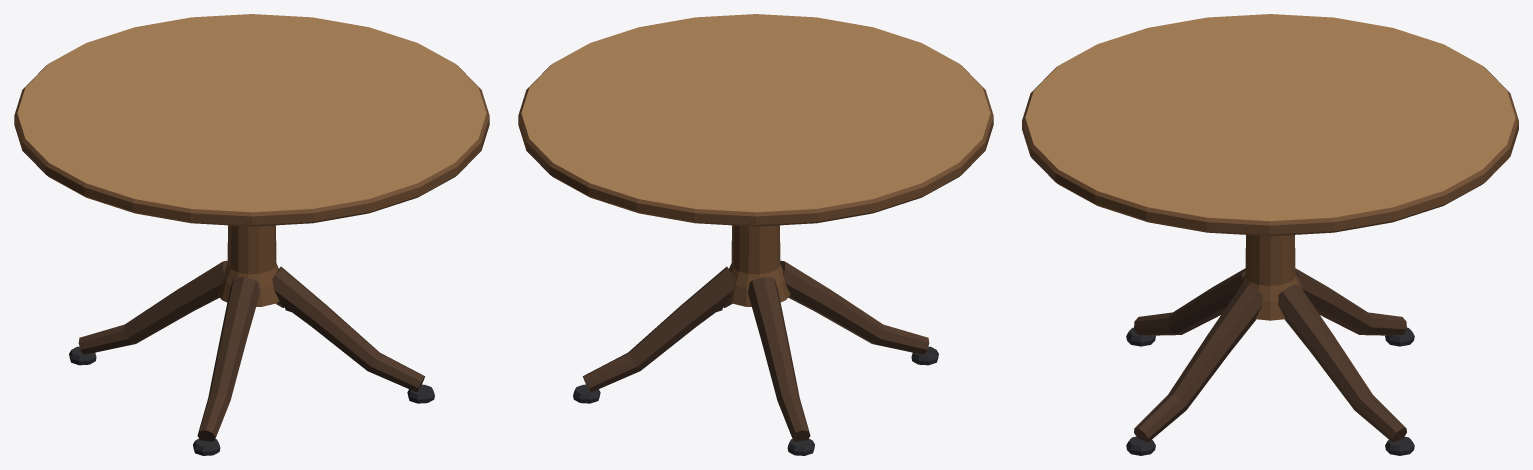
File: FN_Table_Round_Dining.glb
3 views of the same model, side by side, from view 1: azimuth 30°, elevation 25°; view 2: azimuth 150°, elevation 25°; view 3: azimuth 270°, elevation 25° (orthographic). The views are drawn at different scales.
Parts seen in each view (by area): view 1: FN_Table_Round_Dining; view 2: FN_Table_Round_Dining; view 3: FN_Table_Round_Dining.
Part boxes in pixels (<box>): FN_Table_Round_Dining: <box>14,14,489,455</box>; FN_Table_Round_Dining: <box>518,14,993,455</box>; FN_Table_Round_Dining: <box>1022,14,1518,455</box>.
Size of the model in its own units: 1.2 by 0.74 by 1.2.
1 material, 1 textured.
